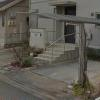stairs: (21, 44, 79, 69)
